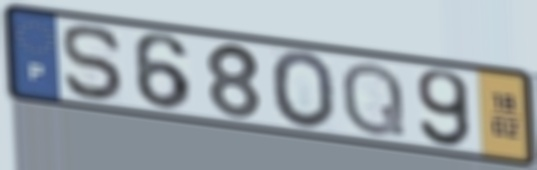6: (131, 31, 196, 114)
8: (203, 41, 264, 122)
9: (413, 67, 471, 151)
O: (267, 48, 339, 133)
Q: (339, 59, 409, 139)
S: (59, 21, 129, 104)
